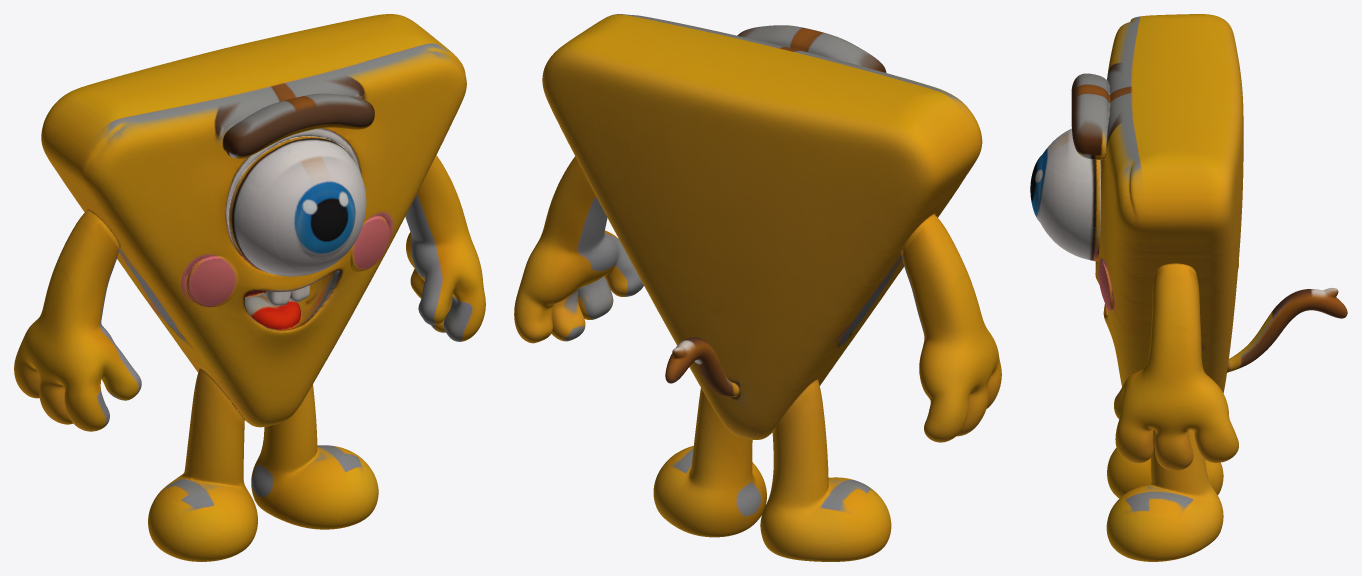
The model's file is triangle_tripo.glb.
3 views of the same model, side by side, from view 1: azimuth 30°, elevation 25°; view 2: azimuth 150°, elevation 25°; view 3: azimuth 270°, elevation 25° (orthographic). The views are drawn at different scales.
Visible parts, largest first — view 1: tripo_node_ad62fe15-14c1-4edb-9620-de7f39d38e23; view 2: tripo_node_ad62fe15-14c1-4edb-9620-de7f39d38e23; view 3: tripo_node_ad62fe15-14c1-4edb-9620-de7f39d38e23.
Boxes of the visible parts, x1,y1,x2,y2 form: tripo_node_ad62fe15-14c1-4edb-9620-de7f39d38e23: (14, 14, 485, 561); tripo_node_ad62fe15-14c1-4edb-9620-de7f39d38e23: (514, 14, 1001, 561); tripo_node_ad62fe15-14c1-4edb-9620-de7f39d38e23: (1030, 14, 1347, 561).
Bounding box in the file's own units: 0.983 × 1 × 0.6575.
1 material, 1 textured.
